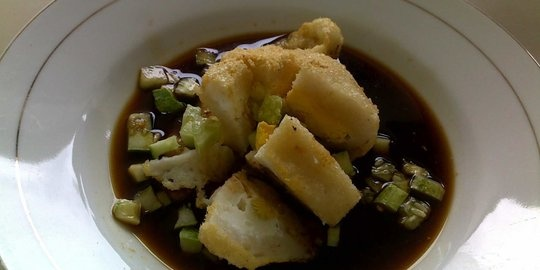pempek: (144, 18, 378, 269)
